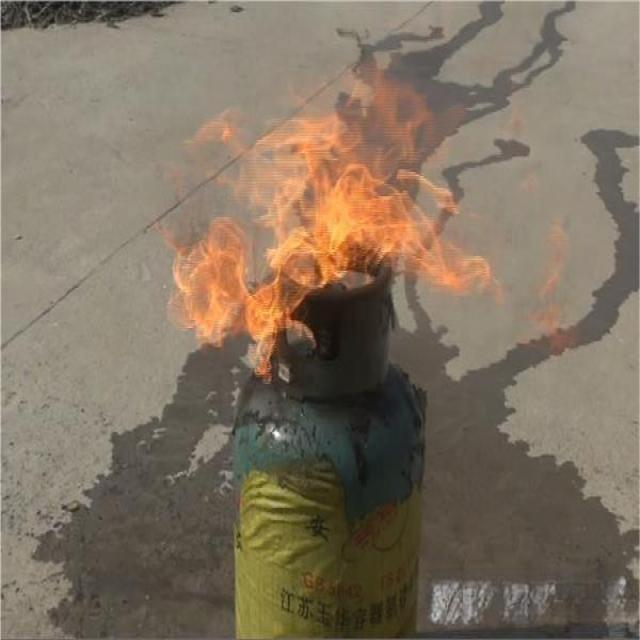Fire: (160, 73, 498, 380)
